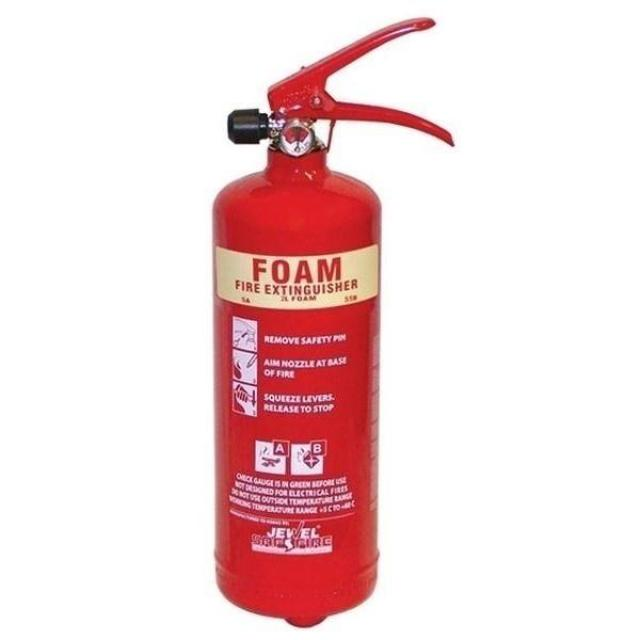fire_extinguisher: (205, 12, 457, 623)
